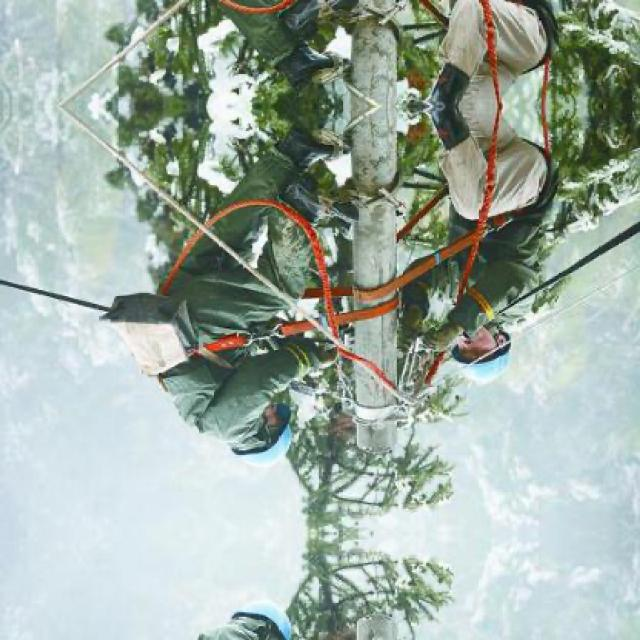con casco: (186, 379, 351, 475), (432, 313, 562, 395)
